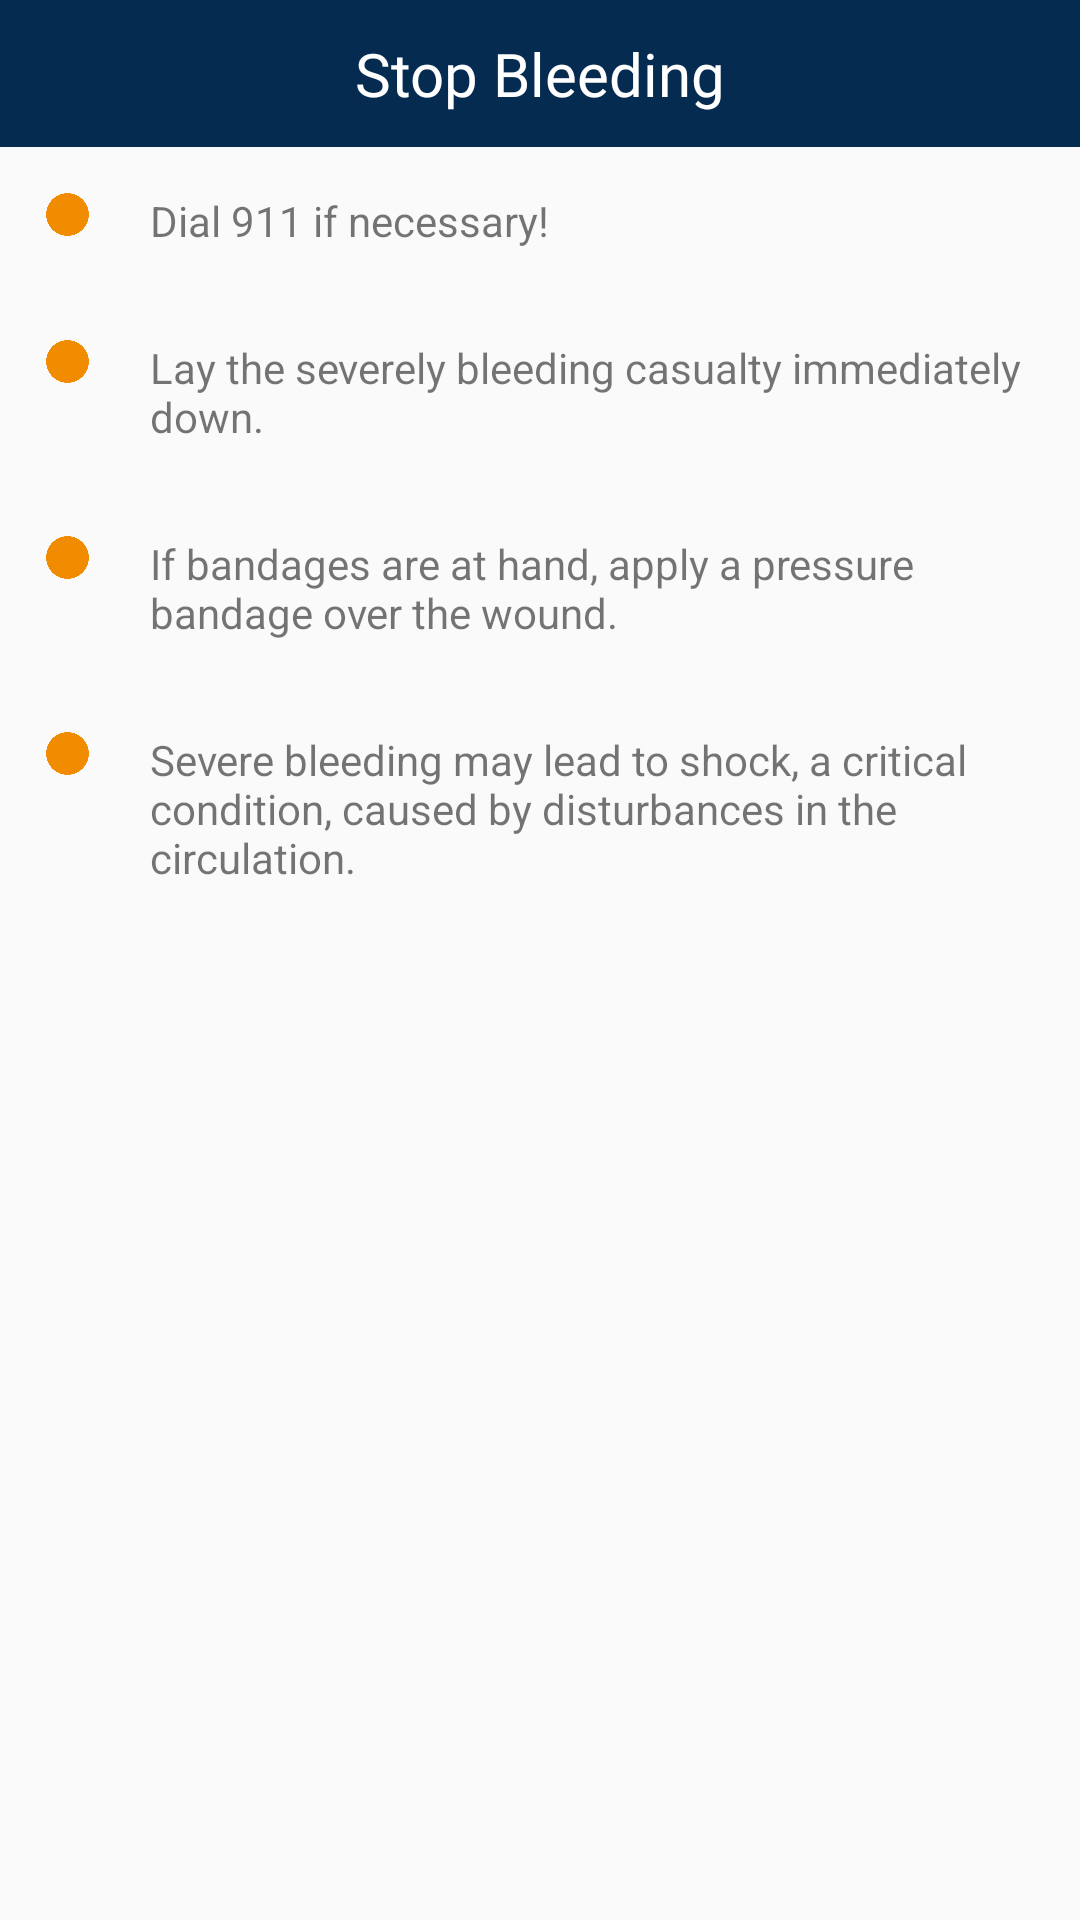

Icons on this 1080×1920 Android screen, each with the point to tap as point (x, y):
bullet: point (67, 214), point (67, 361), point (67, 557), point (67, 753)
